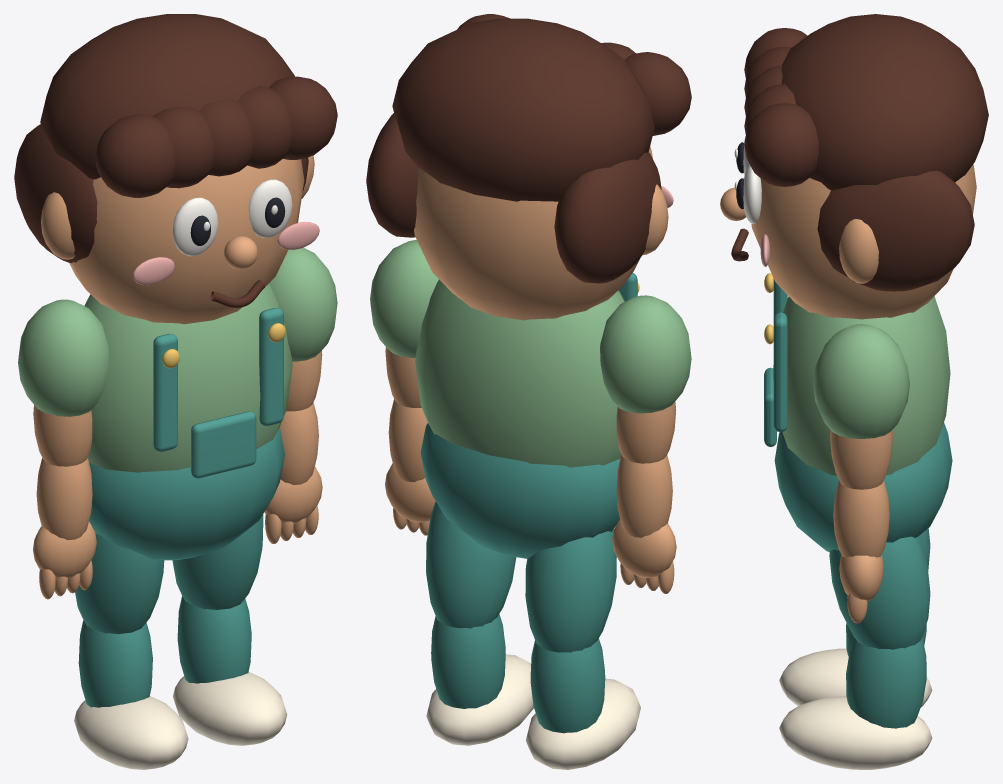
Rendered from daddy-jump.glb.
3 views of the same model, side by side, from view 1: azimuth 30°, elevation 25°; view 2: azimuth 150°, elevation 25°; view 3: azimuth 270°, elevation 25° (orthographic).
Parts seen in each view (by area): view 1: hair cap, clay head, soft shirt, overalls, shirt sleeve, little shoe, little shoe.001, bob hair, trouser leg, fringe, shirt sleeve.001, lower leg.001 (+22 smaller); view 2: hair cap, soft shirt, clay head, overalls, bob hair, trouser leg, shirt sleeve, trouser leg.001, lower leg, lower leg.001, shirt sleeve.001, little shoe (+10 smaller); view 3: hair cap, soft shirt, bob hair.001, clay head, shirt sleeve.001, overalls, little shoe.001, trouser leg.001, lower leg.001, fringe.004, forearm.001, little shoe (+11 smaller).
Part boxes in pixels (x1,y1,x2,y2): hair cap: (40,14,294,179); clay head: (69,159,304,324); soft shirt: (84,284,292,472); overalls: (89,427,284,560); shirt sleeve: (18,299,108,416); little shoe: (74,696,188,769); little shoe.001: (173,672,287,745); bob hair: (14,124,97,263); trouser leg: (75,533,164,634); fringe: (95,114,175,197); shirt sleeve.001: (269,247,337,361); lower leg.001: (177,596,251,683); hair cap: (392,18,654,201); soft shirt: (415,279,624,467); clay head: (414,146,652,320); overalls: (420,423,619,558); bob hair: (554,152,661,283); trouser leg: (525,529,616,652); shirt sleeve: (600,295,691,413); trouser leg.001: (426,501,516,628); lower leg: (530,638,605,733); lower leg.001: (431,614,505,708); shirt sleeve.001: (370,240,438,357); little shoe: (526,678,640,769); hair cap: (781,14,988,190); soft shirt: (772,296,950,475); bob hair.001: (817,170,974,291); clay head: (749,164,976,319); shirt sleeve.001: (813,324,909,438); overalls: (774,423,952,551); little shoe.001: (779,696,932,769); trouser leg.001: (829,536,930,649); lower leg.001: (846,637,926,728); fringe.004: (744,103,818,186); forearm.001: (833,480,889,557); little shoe: (779,648,932,707).
Bounding box in the file's own units: 0.957 × 2.13 × 0.7315.
